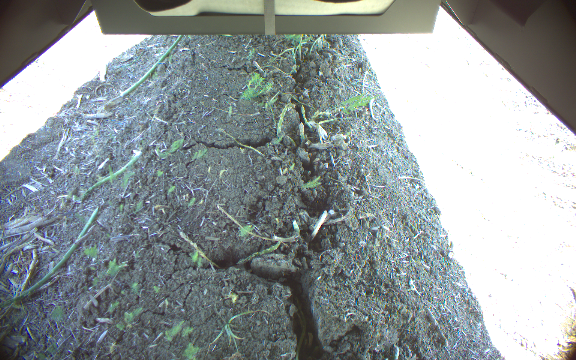aspa: (277, 102, 294, 138)
